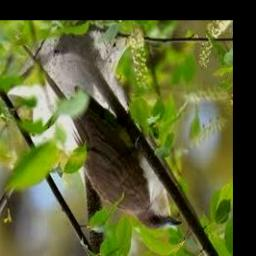Cuckoo: (22, 45, 182, 230)
